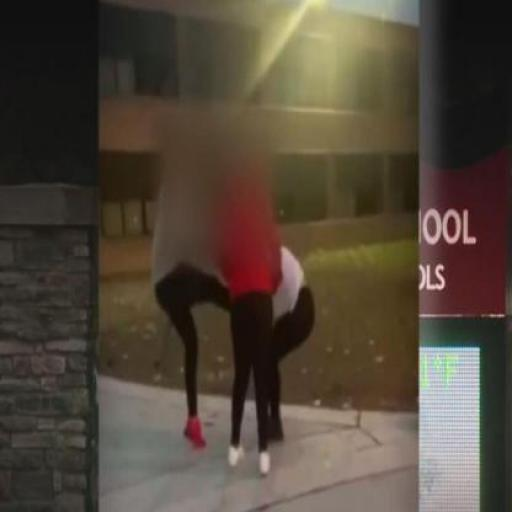Fighting: (108, 5, 319, 476)
